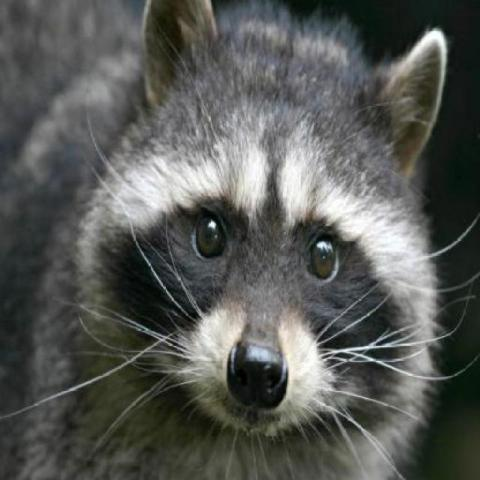small_animal: (1, 0, 463, 479)
